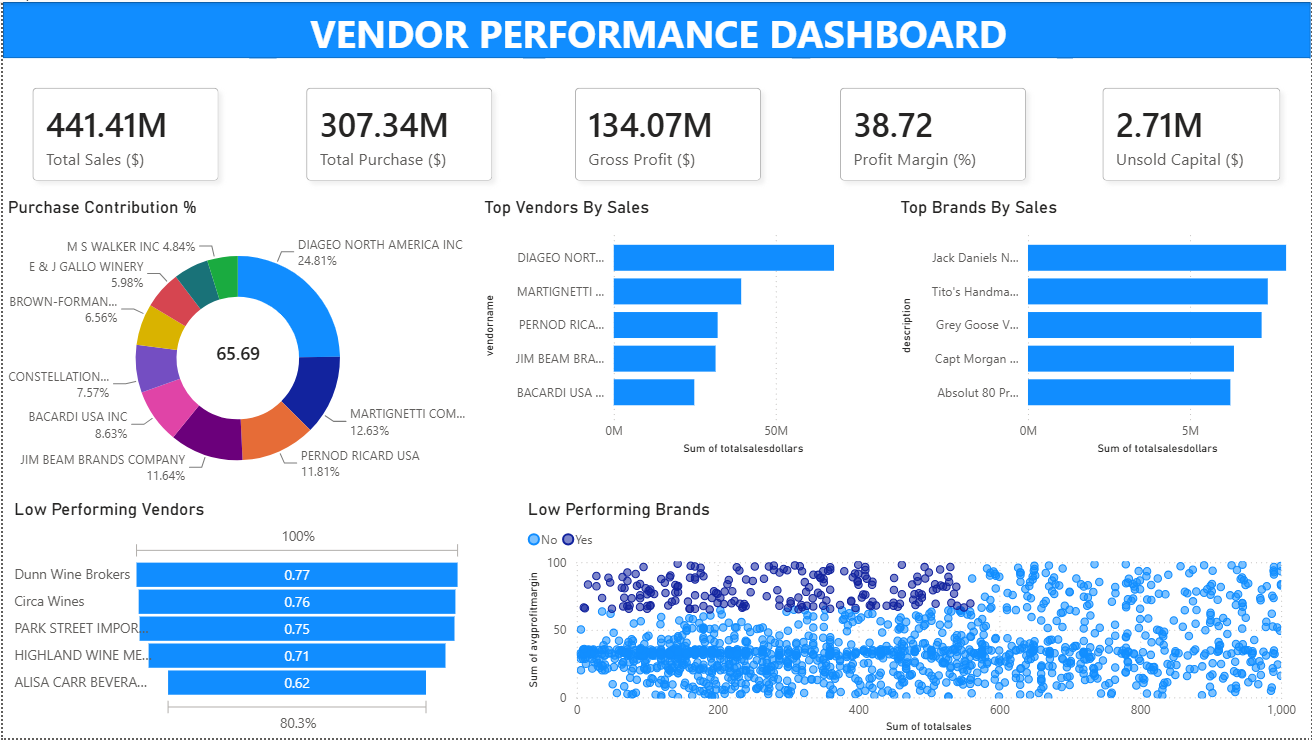

The dashboard page shown, as its layout file describes it:
{"tool":"powerbi","page":{"name":"Page 1","canvas":[1280,720],"ordinal":0},"visuals":[{"type":"shape","box":[0,0,1280.3,55],"z":0},{"type":"textbox","box":[283.7,0,715.4,70.9],"z":1000},{"type":"cardVisual","fields":{"Data":["Sum(vendor_sales_summary.totalsalesdollars)"]},"box":[0,55,240.9,149.2],"z":2000},{"type":"cardVisual","fields":{"Data":["Sum(vendor_sales_summary.totalpurchasedollars)"]},"box":[267.8,55,240.9,149.2],"z":3000},{"type":"cardVisual","fields":{"Data":["Sum(vendor_sales_summary.grossprofit)"]},"box":[530.7,55,240.9,149.2],"z":4000},{"type":"cardVisual","fields":{"Data":["Avg(vendor_sales_summary.profitmargin)"]},"box":[789.9,55,240.9,149.2],"z":5000},{"type":"cardVisual","fields":{"Data":["Sum(vendor_sales_summary.unsoldcapital)"]},"box":[1046.7,55,232.3,149.2],"z":6000},{"type":"group","id":"g1","title":"Group 1","box":[0,191.3,459.8,294.7],"z":7000},{"type":"donutChart","title":"Purchase Contribution %","fields":{"Category":["PurchaseContribution.vendorname"],"Y":["Sum(PurchaseContribution.purchasecontribution%)"]},"box":[0,191.3,459.8,294.7],"z":7000,"group":"g2"},{"type":"barChart","title":"Top Vendors By Sales","fields":{"Category":["vendor_sales_summary.vendorname"],"Y":["Sum(vendor_sales_summary.totalsalesdollars)"]},"box":[465.9,190.8,402.3,256.8],"z":8000},{"type":"cardVisual","fields":{"Data":["Sum(PurchaseContribution.purchasecontribution%)"]},"box":[183.5,326.2,93.9,37.2],"z":8500,"group":"g2"},{"type":"barChart","title":"Top Brands By Sales","fields":{"Category":["vendor_sales_summary.description"],"Y":["Sum(vendor_sales_summary.totalsalesdollars)"]},"box":[873.1,190.8,397.4,256.8],"z":9000},{"type":"funnel","title":"Low Performing Vendors","fields":{"Category":["LowTurnoverVendor.vendorname"],"Y":["Sum(LowTurnoverVendor.avgstockturnover)"]},"box":[6.1,485.5,448.8,234.8],"z":10000},{"type":"scatterChart","title":"Low Performing Brands","fields":{"Category":["BrandPerformance.description"],"X":["Sum(BrandPerformance.totalsales)"],"Y":["Sum(BrandPerformance.avgprofitmargin)"],"Series":["BrandPerformance.targetbrand"]},"box":[508.7,485.5,761.8,234.8],"z":11000},{"type":"group","id":"g2","title":"Group 2","box":[0,191.3,459.8,294.7],"z":11001,"group":"g1"}]}

Visuals, with their boxes in screenshot pixels (x1, y1, x2, y2), scaled from the page's 1280x720 canvas onto the 1312x741 screenshot:
shape: bbox(0, 0, 1311, 57)
textbox: bbox(291, 0, 1024, 73)
cardVisual - Sum(vendor_sales_summary.totalsalesdollars): bbox(0, 57, 247, 210)
cardVisual - Sum(vendor_sales_summary.totalpurchasedollars): bbox(274, 57, 521, 210)
cardVisual - Sum(vendor_sales_summary.grossprofit): bbox(544, 57, 791, 210)
cardVisual - Avg(vendor_sales_summary.profitmargin): bbox(810, 57, 1057, 210)
cardVisual - Sum(vendor_sales_summary.unsoldcapital): bbox(1073, 57, 1311, 210)
"Group 1" group: bbox(0, 197, 471, 500)
"Purchase Contribution %" donutChart: bbox(0, 197, 471, 500)
"Top Vendors By Sales" barChart: bbox(478, 196, 890, 461)
cardVisual - Sum(PurchaseContribution.purchasecontribution%): bbox(188, 336, 284, 374)
"Top Brands By Sales" barChart: bbox(895, 196, 1302, 461)
"Low Performing Vendors" funnel: bbox(6, 500, 466, 740)
"Low Performing Brands" scatterChart: bbox(521, 500, 1302, 740)
"Group 2" group: bbox(0, 197, 471, 500)
